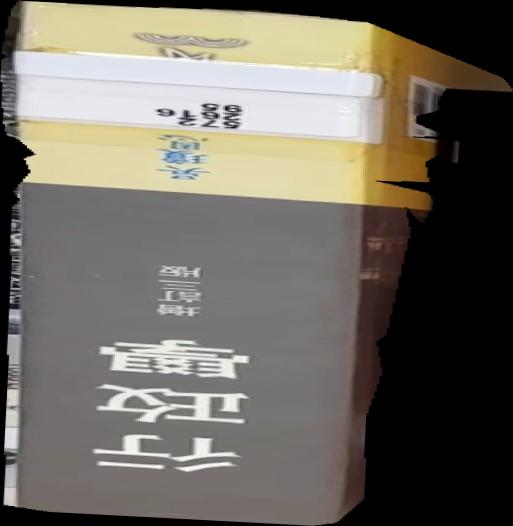reverse: (1, 1, 513, 526)
